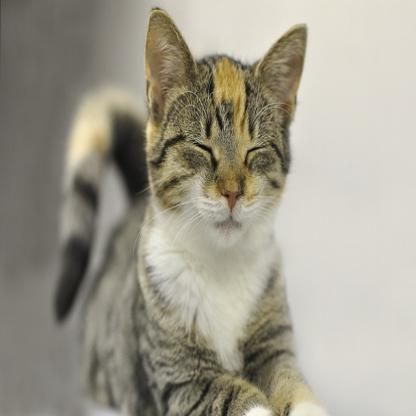cat: (54, 7, 326, 415)
